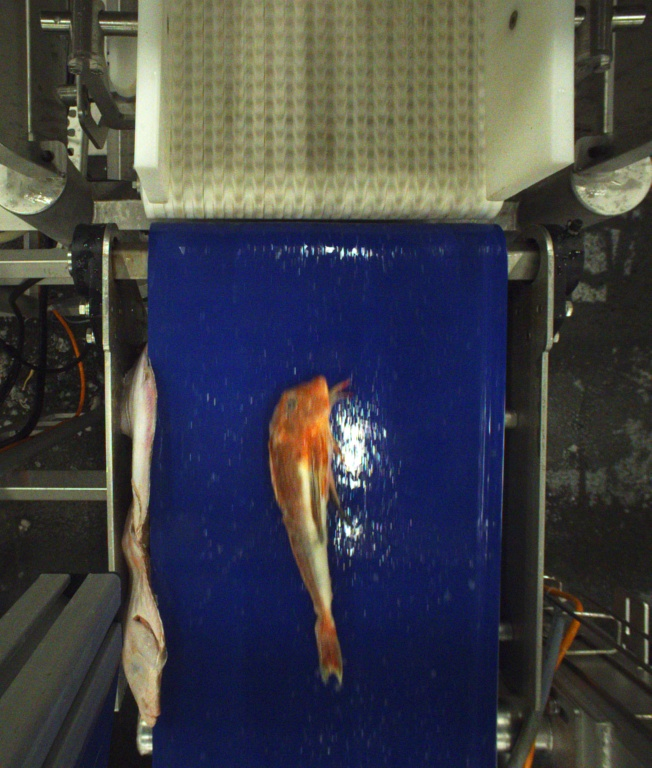GUU: (266, 376, 357, 688)
